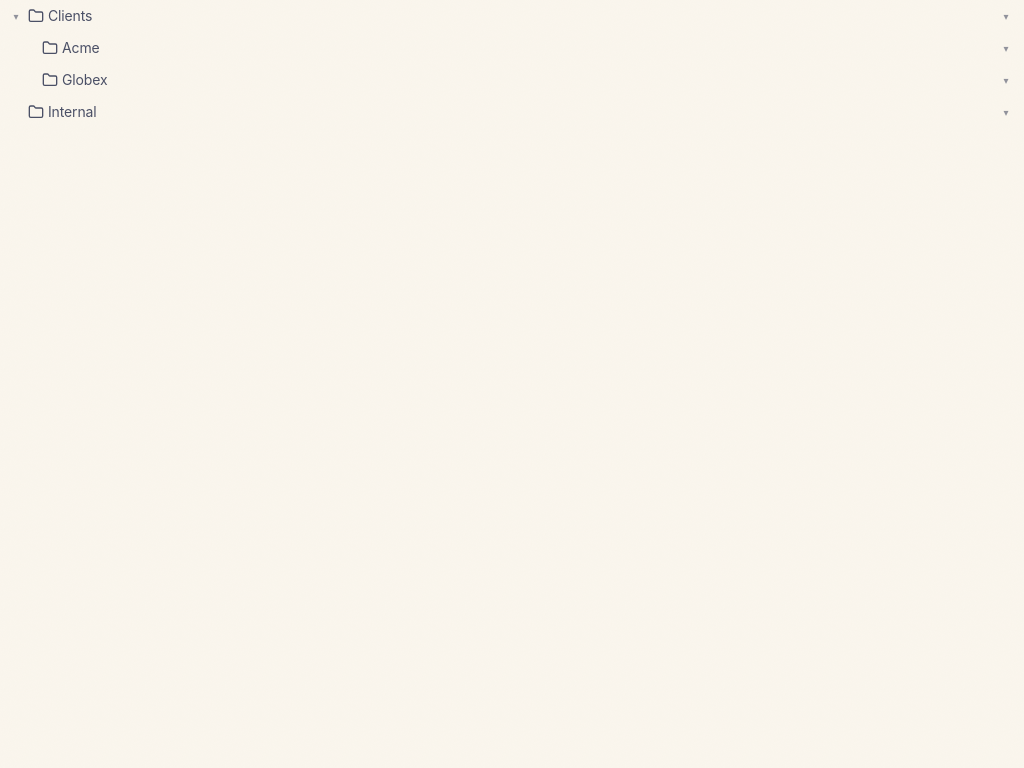
Test: FolderTree — folder icons › opens the picker when the icon button is clicked, without selecting the folder
Step 1. Click the button named "Change folder icon" next to "Clients" → (36, 16), box x1=28 y1=8 x2=44 y2=24
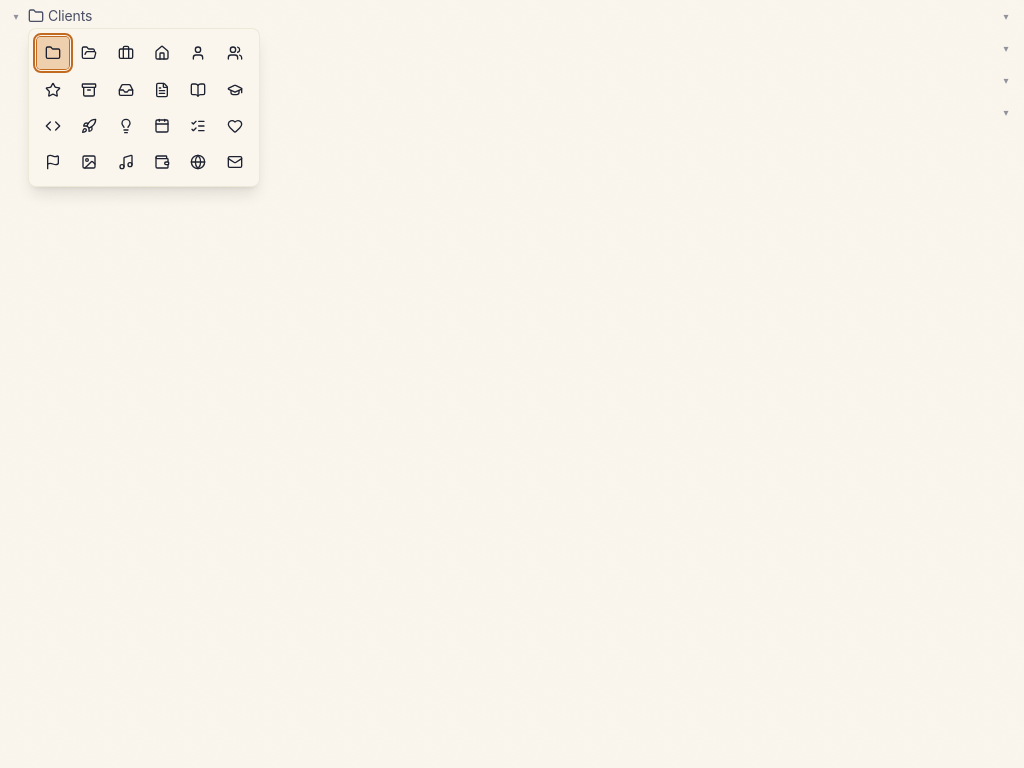
Result: the dialog is shown at x1=28 y1=28 x2=260 y2=187
